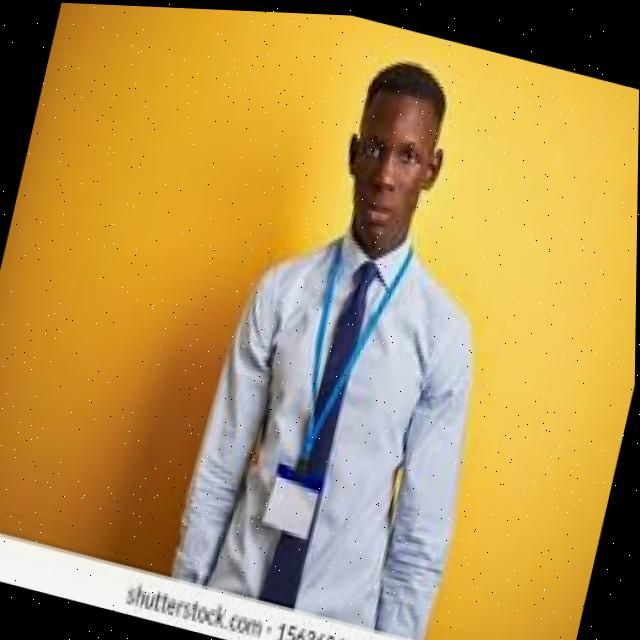id_card: (257, 252, 390, 544)
